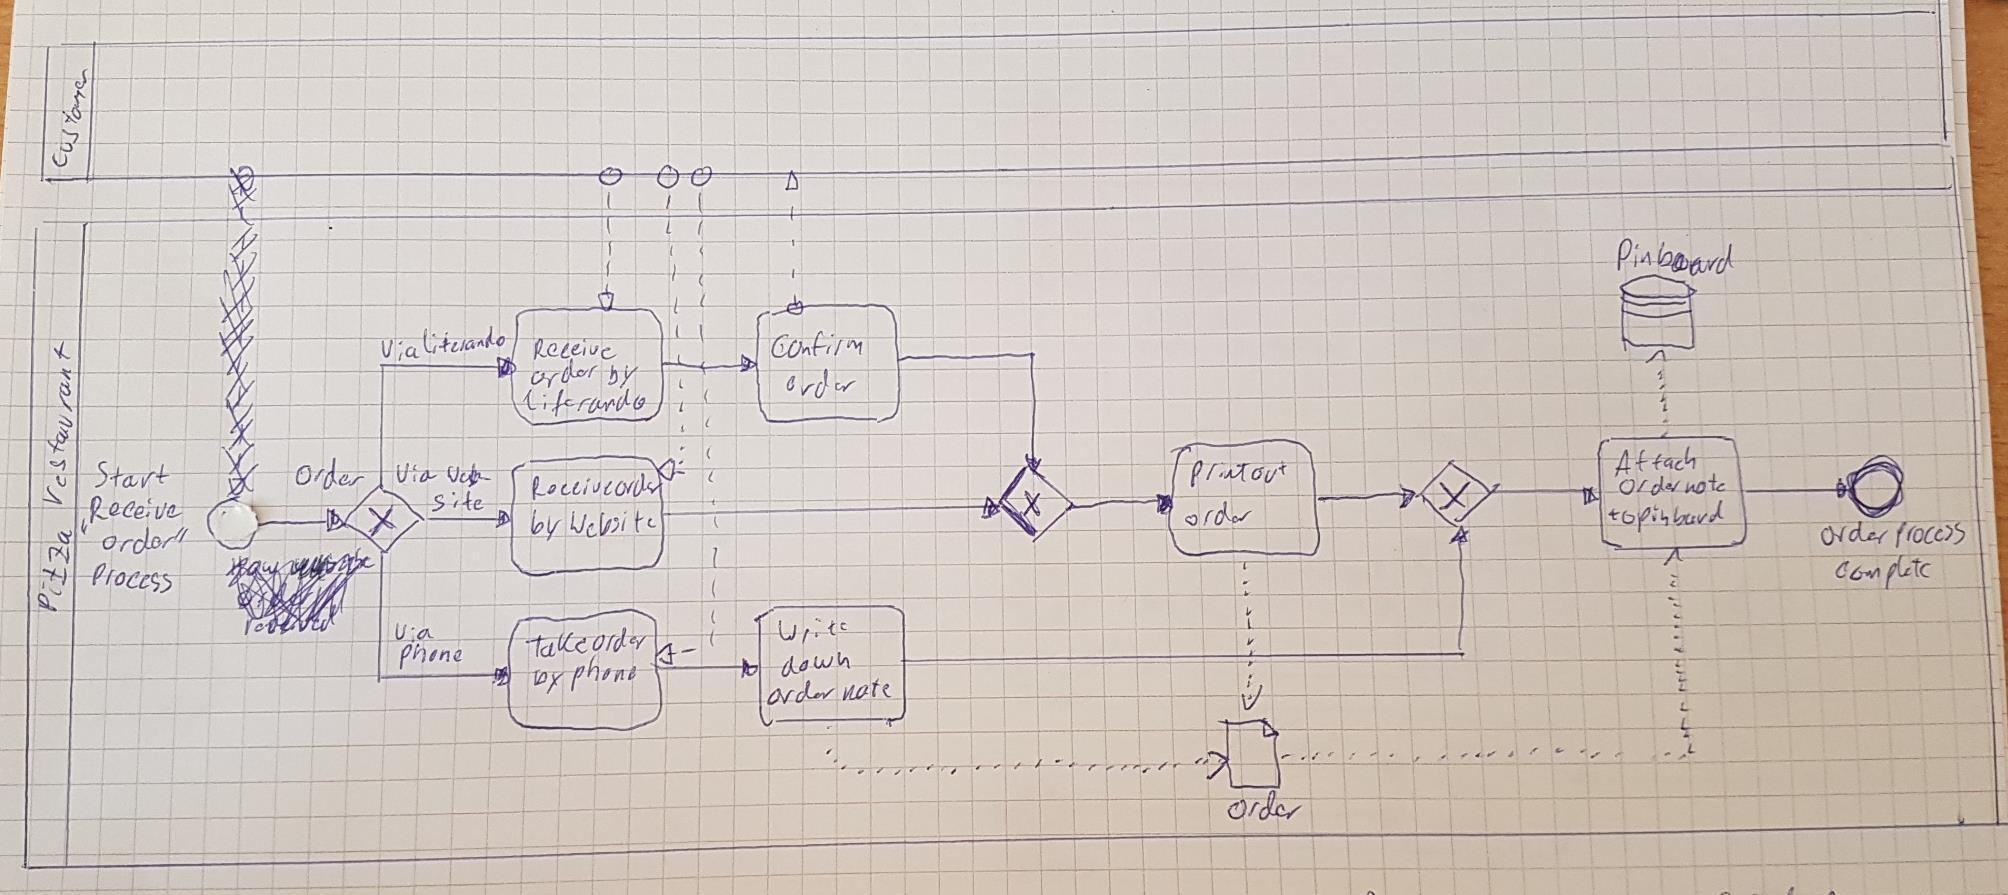Attach: (1608, 446, 1699, 476)
Confirm: (768, 328, 867, 364)
Customer: (45, 65, 88, 175)
Order: (292, 457, 362, 493)
Pinboard: (1607, 236, 1738, 279)
Pizza: (33, 521, 72, 618)
Process: (81, 562, 175, 595)
Receive: (76, 498, 181, 531), (525, 472, 615, 499), (528, 335, 619, 361)
Start: (90, 460, 179, 490)
Take: (524, 630, 588, 658)
Website: (566, 507, 657, 542)
Write: (772, 613, 852, 647)
by: (525, 507, 563, 545), (526, 663, 565, 700), (604, 361, 642, 388)
complete: (1833, 554, 1939, 592)
down: (773, 650, 863, 681)
lieferando: (417, 319, 508, 361)
liferando: (517, 387, 649, 416)
note: (836, 677, 893, 708), (1680, 472, 1729, 499)
order: (95, 524, 188, 556), (1220, 790, 1305, 825), (1815, 519, 1890, 551), (780, 369, 861, 398), (526, 359, 602, 389), (761, 680, 838, 709), (1181, 501, 1252, 531), (587, 627, 651, 656), (1614, 474, 1685, 497), (612, 472, 661, 499)
phone: (566, 657, 640, 690), (391, 643, 470, 670)
printout: (1182, 457, 1290, 489)
process: (1889, 520, 1968, 549)
restaurant: (38, 341, 76, 507)
site: (428, 489, 489, 515)
topinbard: (1605, 496, 1728, 536)
via: (391, 460, 437, 490), (375, 332, 419, 364), (389, 618, 433, 643)
west: (439, 455, 492, 489)
